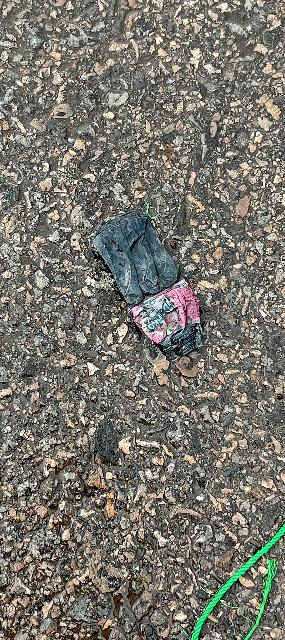bottle: (88, 213, 224, 390)
